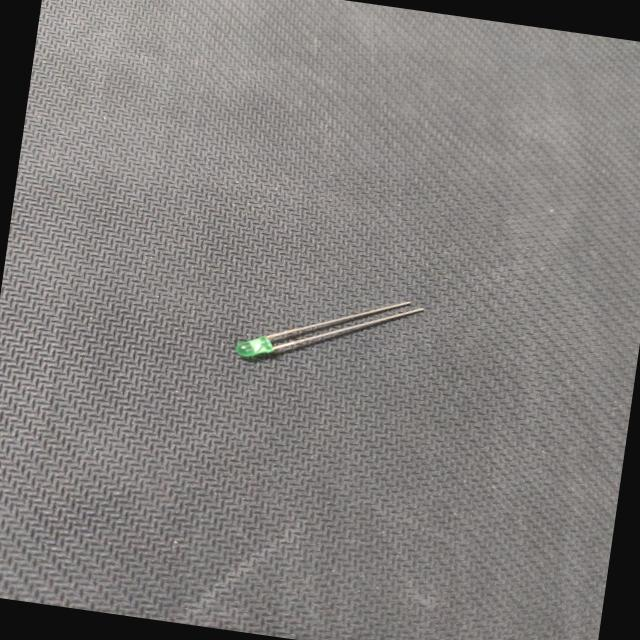led: (224, 272, 430, 388)
